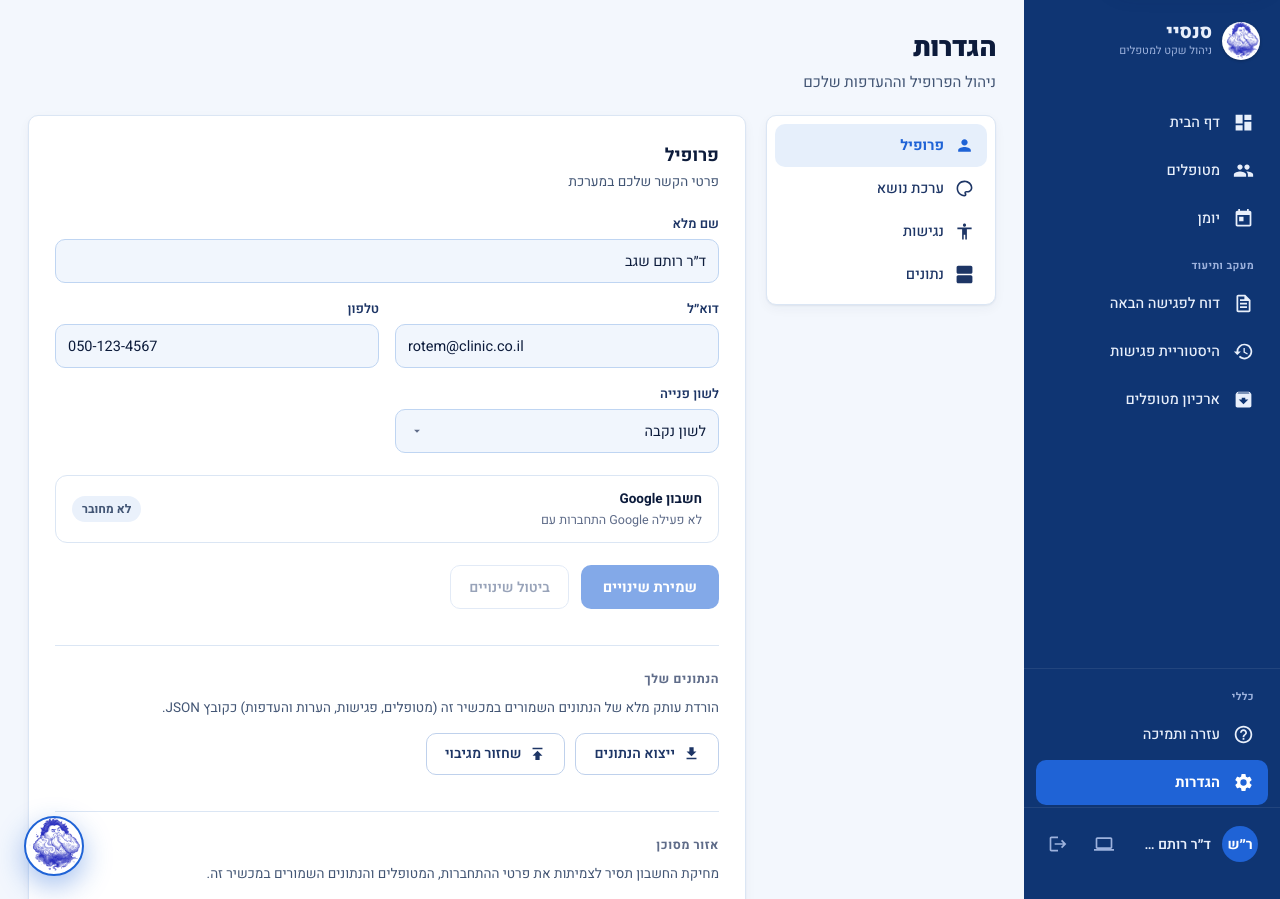
Test: settings — data export › downloads the persisted record as a dated, parseable JSON file
Click the button "ייצוא הנתונים" at (647, 754), box [576,733,719,775]
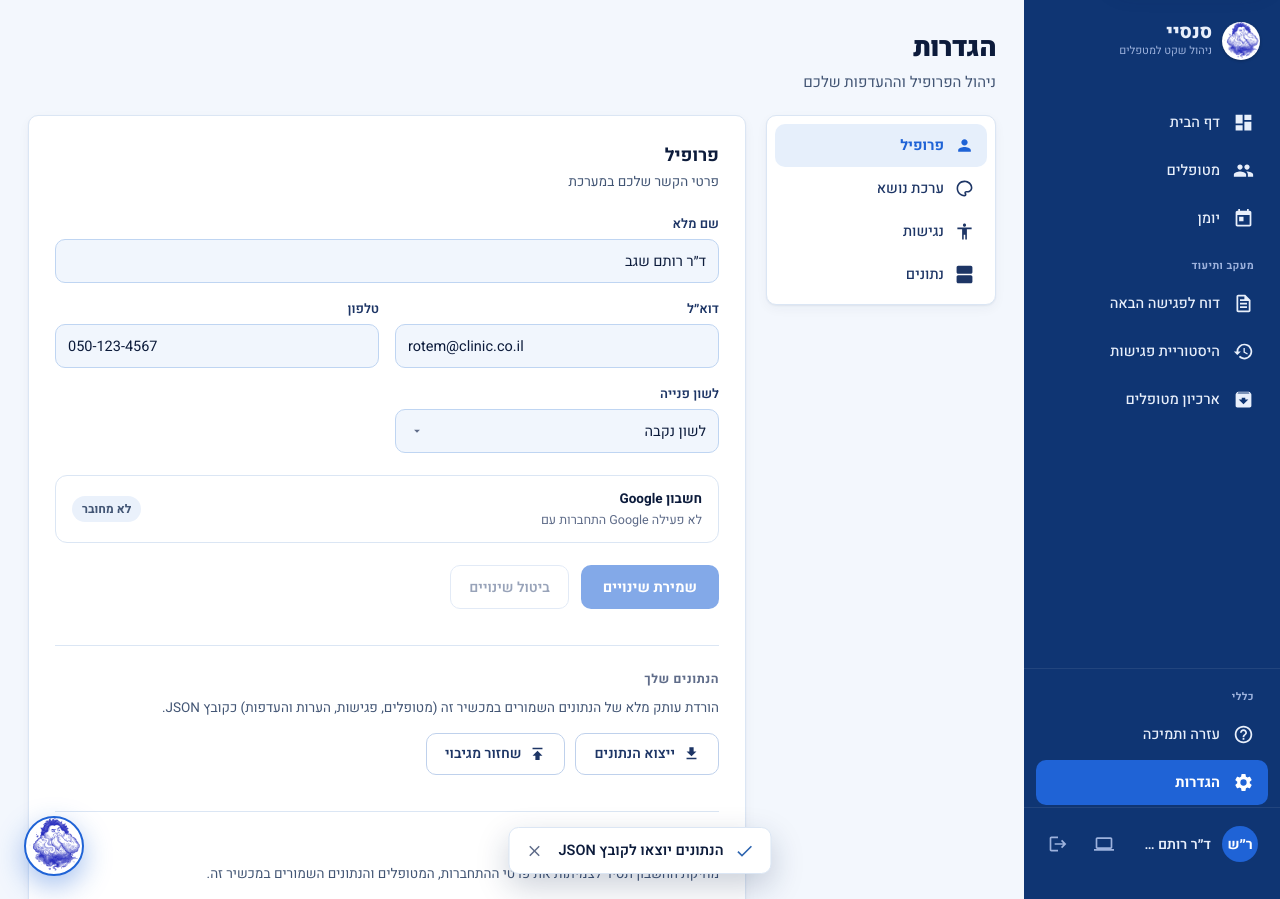
Now the text "הנתונים יוצאו" is shown, box [558,840,724,861]
